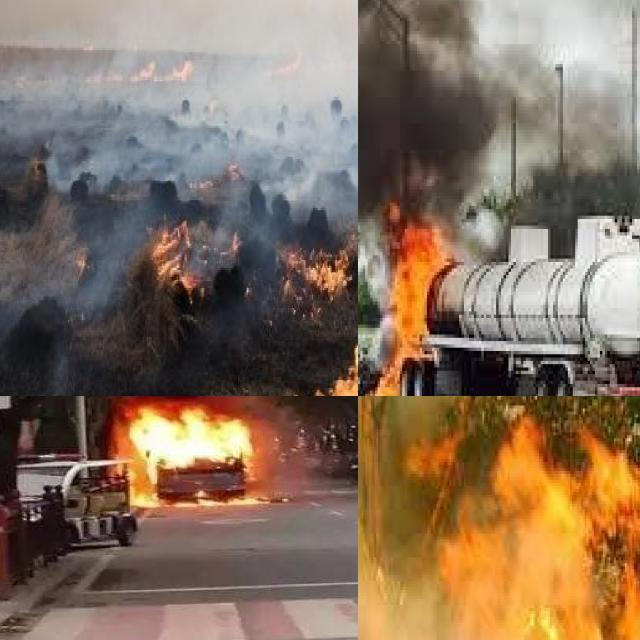fire: (425, 417, 640, 640), (358, 215, 469, 396), (125, 396, 267, 507), (139, 204, 229, 290), (281, 230, 358, 308), (237, 352, 358, 396), (114, 52, 198, 84)
smoke: (0, 14, 358, 247), (358, 0, 496, 209), (358, 557, 640, 640), (503, 0, 640, 159)
